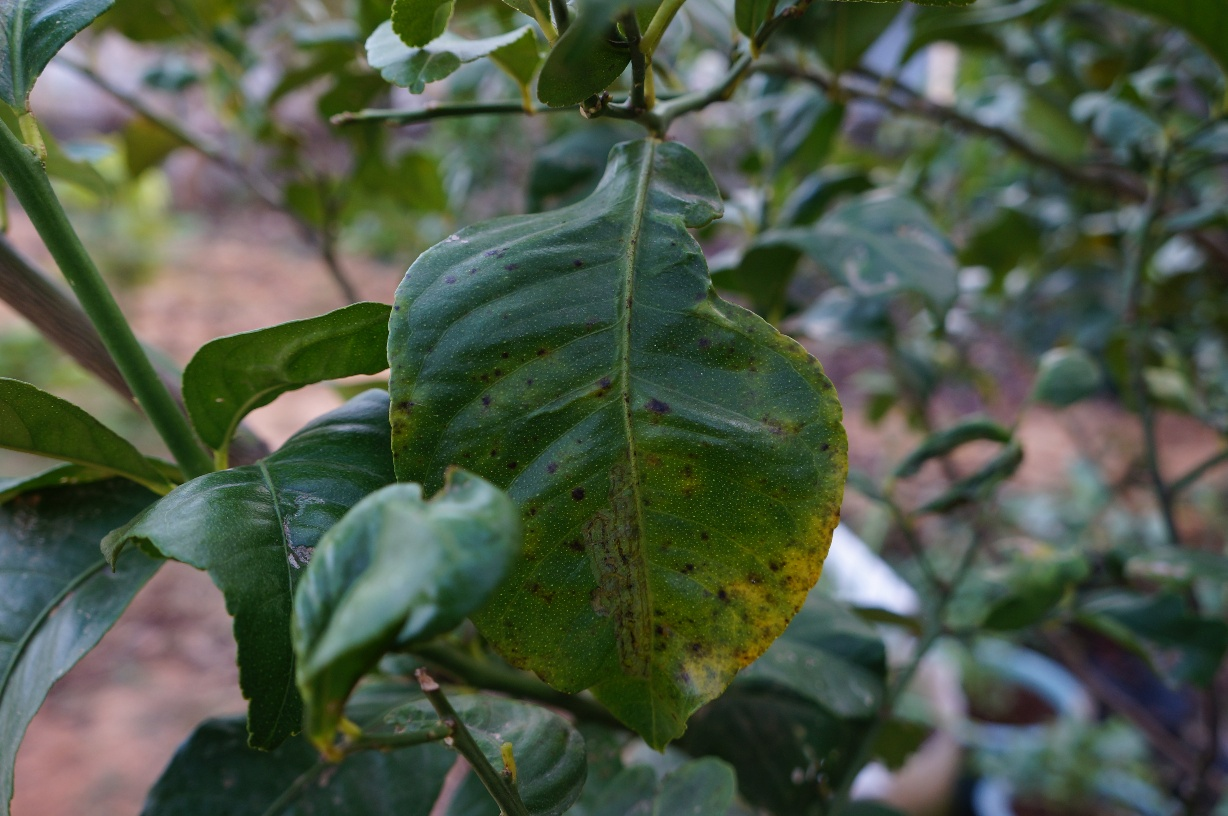damage: (579, 454, 667, 684), (276, 482, 327, 581)
